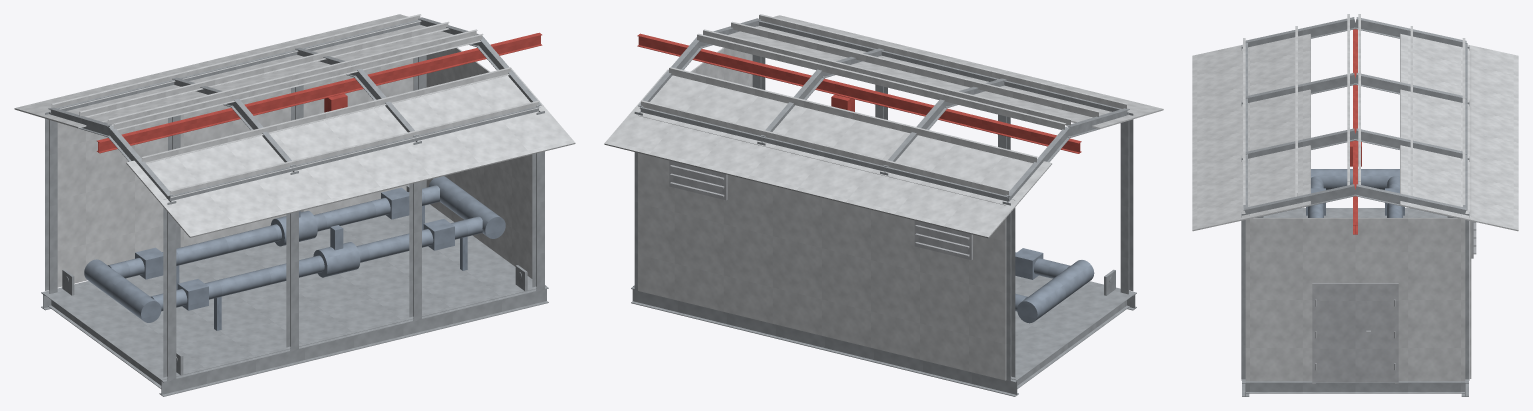
The model's file is metering-station-enclosures.glb.
3 renders of one model, left to right at view 1: azimuth 30°, elevation 25°; view 2: azimuth 150°, elevation 25°; view 3: azimuth 270°, elevation 25°, orthographic. The views are drawn at different scales.
Visible parts, largest first — view 1: Roof&Cladding, SkidBase, EnclosureFrame, MeterRuns(context), MonorailBeam; view 2: Roof&Cladding, EnclosureFrame, SkidBase, MonorailBeam, MeterRuns(context), Louvres&Doors; view 3: Roof&Cladding, EnclosureFrame, Louvres&Doors, SkidBase, MeterRuns(context), MonorailBeam.
Boxes of the visible parts, left/top/right/bottom form: Roof&Cladding: left=14, top=14, right=575, bottom=287; SkidBase: left=41, top=185, right=548, bottom=396; EnclosureFrame: left=45, top=17, right=544, bottom=380; MeterRuns(context): left=84, top=176, right=505, bottom=330; MonorailBeam: left=97, top=32, right=542, bottom=153; Roof&Cladding: left=604, top=14, right=1163, bottom=380; EnclosureFrame: left=634, top=18, right=1133, bottom=380; SkidBase: left=631, top=269, right=1136, bottom=396; MonorailBeam: left=637, top=33, right=1081, bottom=153; MeterRuns(context): left=1015, top=248, right=1094, bottom=323; Louvres&Doors: left=669, top=160, right=972, bottom=260; Roof&Cladding: left=1192, top=14, right=1518, bottom=381; EnclosureFrame: left=1241, top=17, right=1469, bottom=380; Louvres&Doors: left=1312, top=221, right=1476, bottom=383; SkidBase: left=1242, top=208, right=1468, bottom=396; MeterRuns(context): left=1306, top=169, right=1404, bottom=217; MonorailBeam: left=1350, top=29, right=1361, bottom=234.
Size of the model in its own units: 10.8 by 5.33 by 7.43.
Materials: 5 (5 with a texture image).
